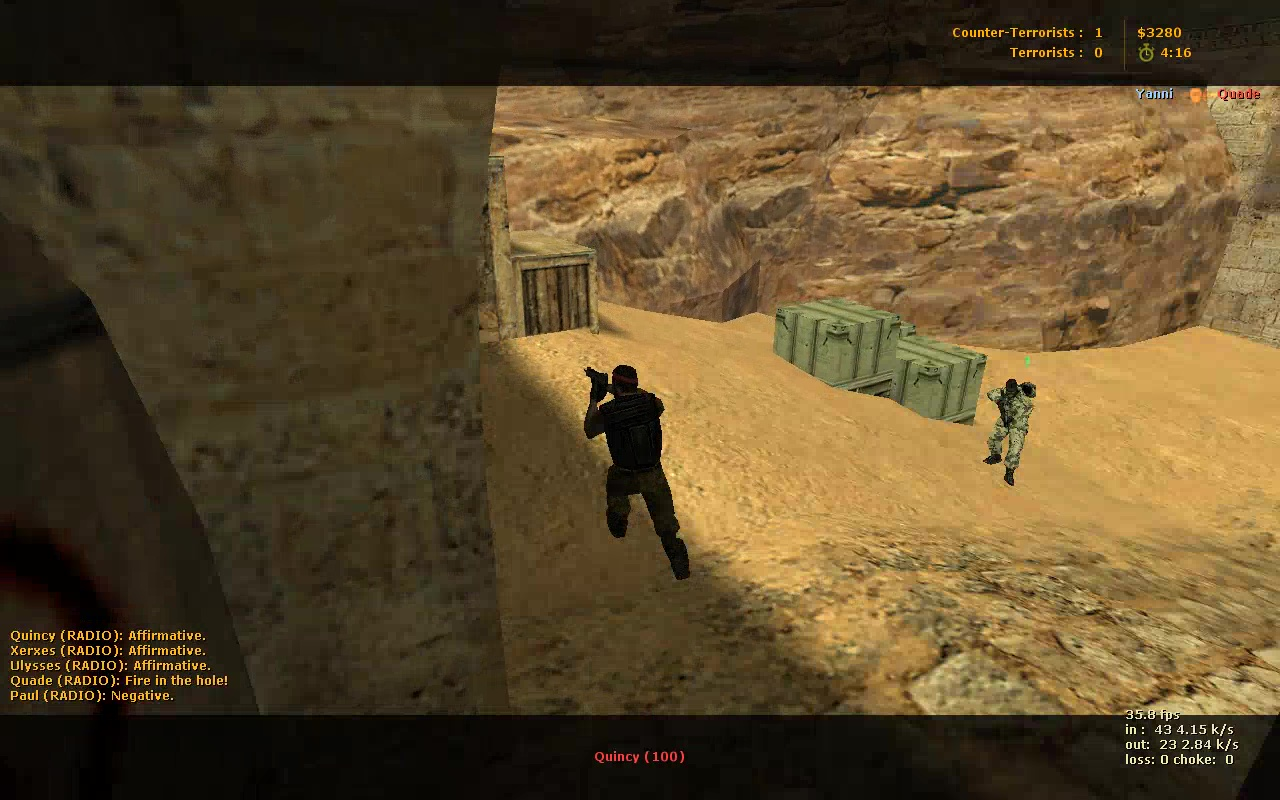terr1: (585, 362, 694, 578)
terr2: (977, 381, 1041, 488)
